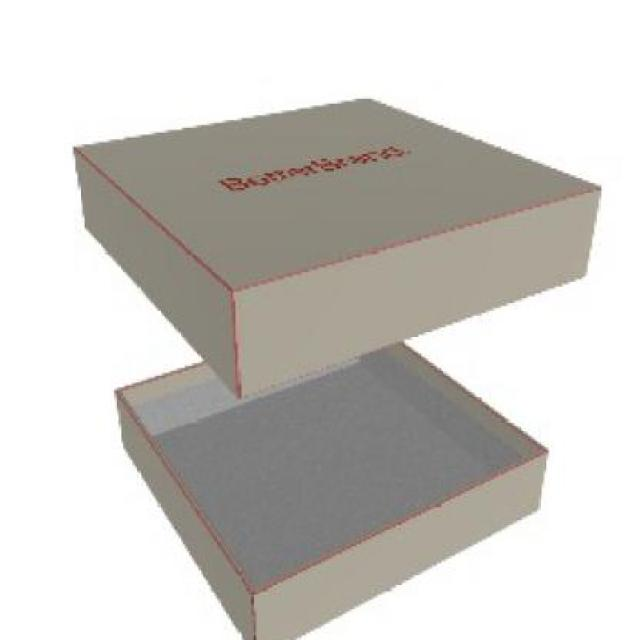box: (66, 63, 608, 640)
